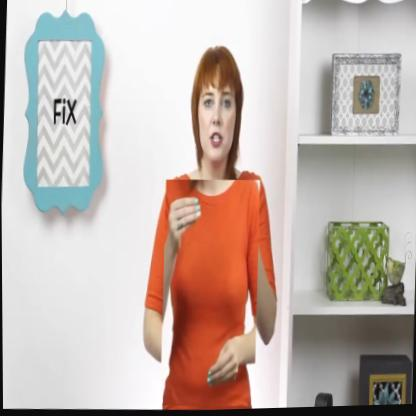Fix: (158, 178, 261, 410)
